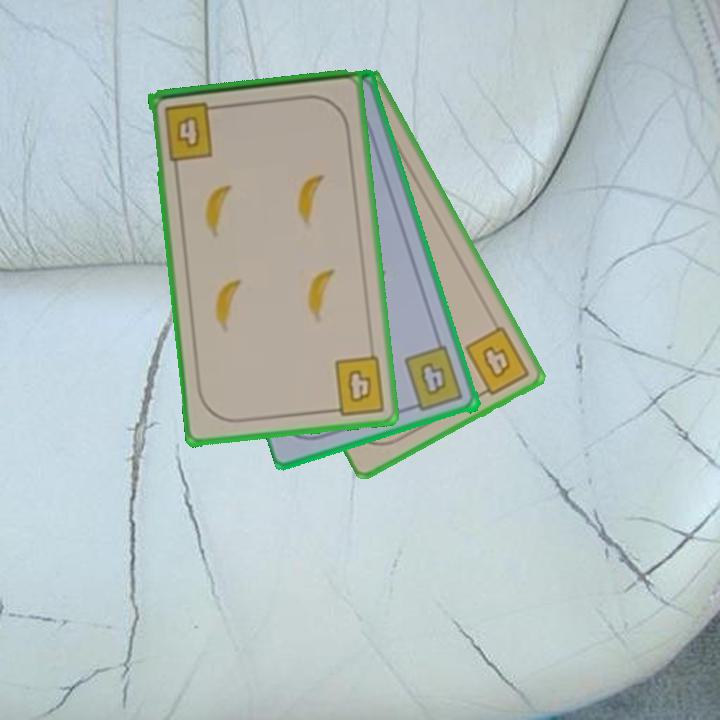4b: (461, 322, 533, 401), (401, 343, 467, 415), (324, 353, 389, 418), (160, 98, 224, 163)
